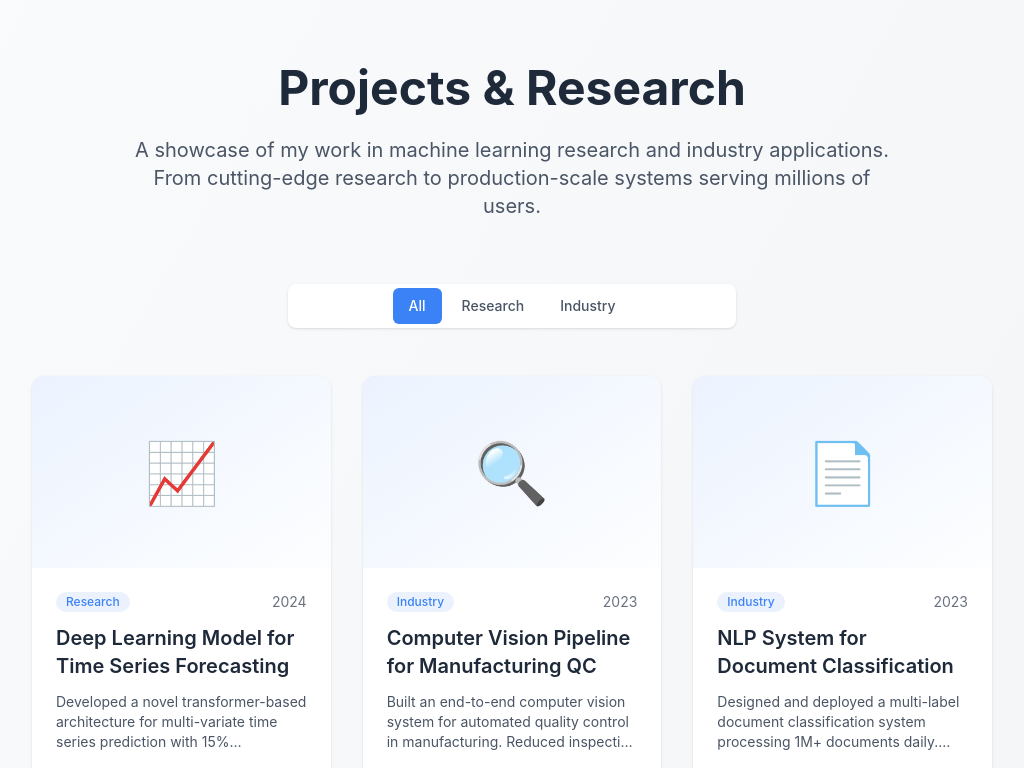
Test: Projects Page › Project Filtering › filters projects to show only Industry projects when Industry filter is clicked
The image size is (1024, 768).
# Click Industry filter
Click the button "Industry".
click(588, 306)  # box [544,288,631,324]
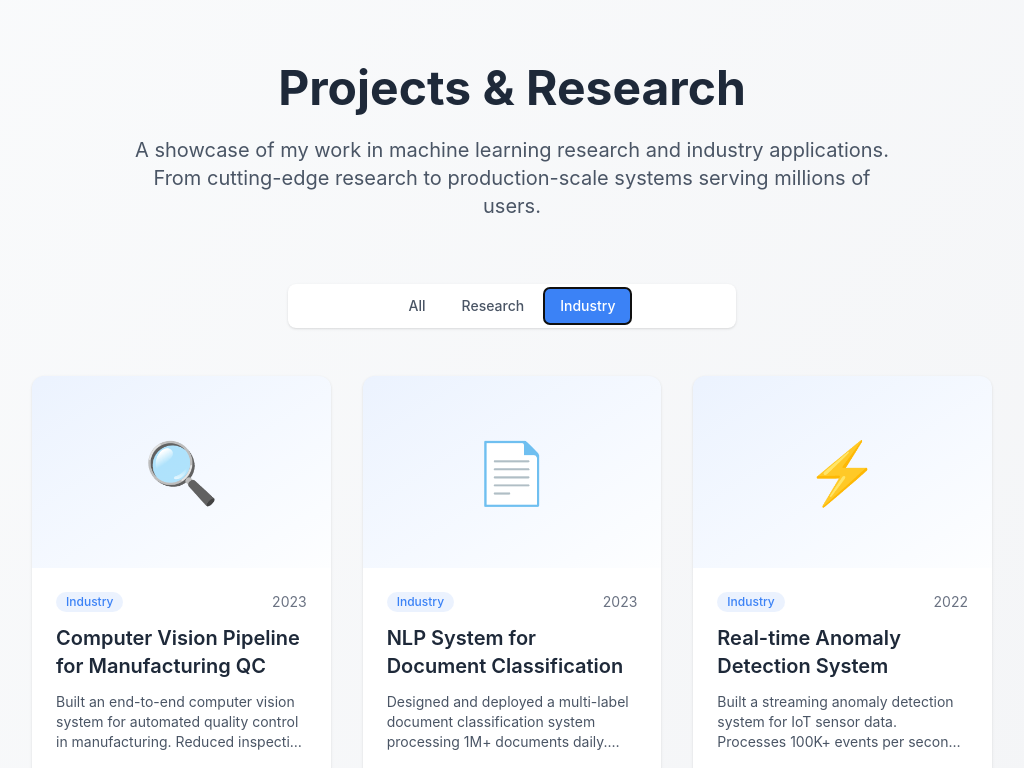
Expected: the heading "Computer Vision Pipeline for Manufacturing QC" is shown, [56,624,307,680]
Result: the link "Deep Learning Model for Time Series Forecasting" is gone
